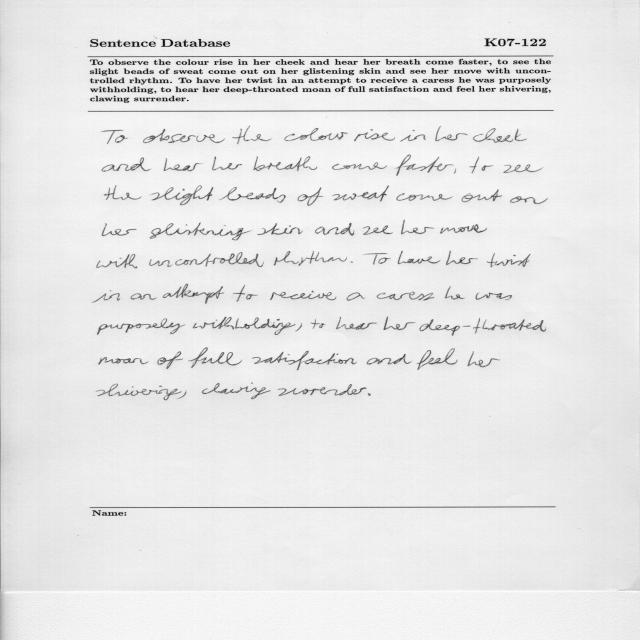word: (419, 318, 546, 336), (252, 351, 357, 370), (193, 317, 296, 335), (150, 223, 250, 241), (149, 252, 264, 267), (98, 318, 186, 335), (97, 384, 182, 401), (395, 155, 454, 176), (163, 284, 224, 304), (151, 186, 214, 205), (143, 129, 225, 143), (274, 251, 347, 266), (202, 383, 270, 399), (188, 348, 242, 368), (219, 187, 286, 203), (278, 384, 367, 396), (253, 156, 317, 171), (332, 186, 389, 202), (417, 348, 458, 370), (284, 128, 348, 141), (473, 128, 527, 143), (102, 157, 151, 172), (233, 126, 272, 144), (270, 291, 336, 301), (487, 253, 531, 267), (97, 254, 137, 268), (398, 251, 441, 264), (257, 223, 303, 235), (461, 190, 502, 203), (336, 317, 377, 330), (104, 186, 142, 200), (377, 292, 434, 301), (468, 351, 500, 367), (315, 223, 354, 236), (435, 126, 468, 141), (367, 354, 412, 365), (354, 129, 395, 141), (298, 187, 323, 206), (440, 224, 487, 234), (164, 158, 200, 171), (401, 220, 434, 234), (396, 193, 453, 201), (102, 223, 137, 236), (212, 156, 242, 171), (158, 351, 183, 369), (446, 251, 478, 265), (332, 162, 387, 170), (233, 285, 258, 302), (384, 317, 416, 330), (470, 157, 494, 174), (99, 357, 148, 365), (101, 130, 128, 144), (92, 290, 120, 303), (504, 164, 543, 173), (364, 253, 391, 265), (400, 130, 426, 142), (510, 196, 548, 204), (363, 226, 393, 235), (445, 287, 465, 300), (476, 293, 512, 300), (131, 293, 157, 300), (347, 293, 365, 301), (311, 319, 325, 329), (177, 391, 187, 399), (295, 324, 302, 332), (454, 169, 456, 174), (368, 393, 371, 396), (350, 261, 353, 263)
